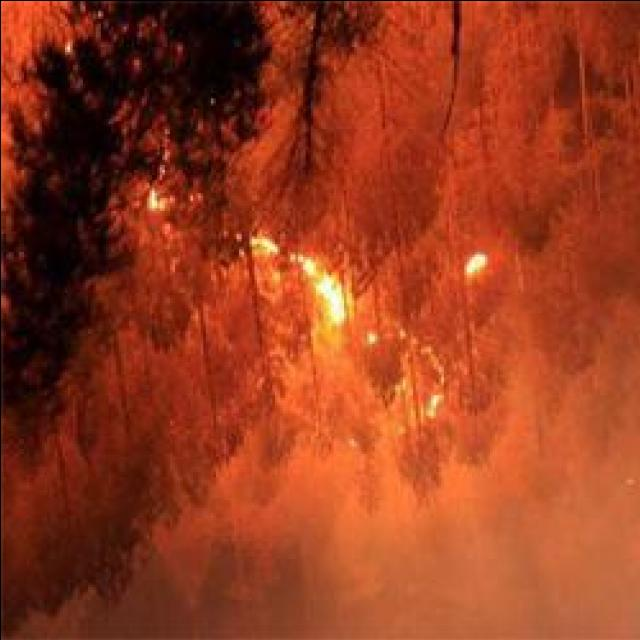fire: (308, 274, 354, 329)
